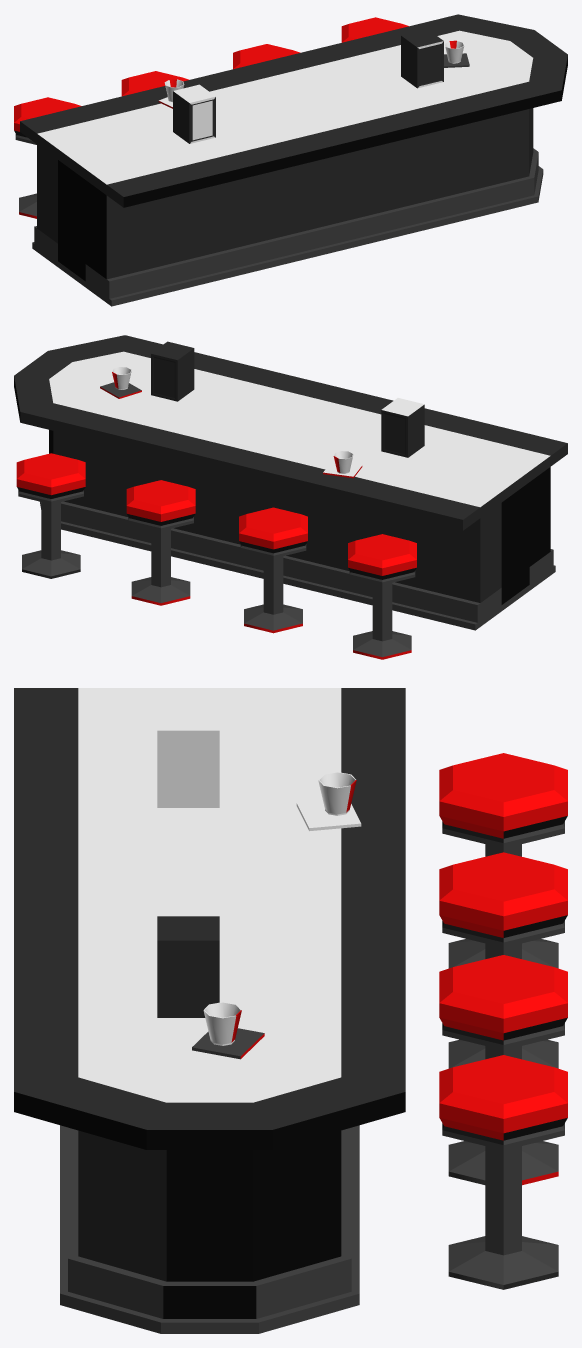
File: Bar.fbx
3 renders of one model, top to bottom at view 1: azimuth 30°, elevation 25°; view 2: azimuth 150°, elevation 25°; view 3: azimuth 270°, elevation 25°, orthographic. The views are drawn at different scales.
Visible parts, largest first — view 1: Box062; view 2: Box062; view 3: Box062.
Part boxes in pixels (x1,y1,x2,y2): Box062: (14,14,567,306); Box062: (14,335,567,659); Box062: (14,688,567,1333).
Size of the model in its own units: 468 by 149 by 248.
